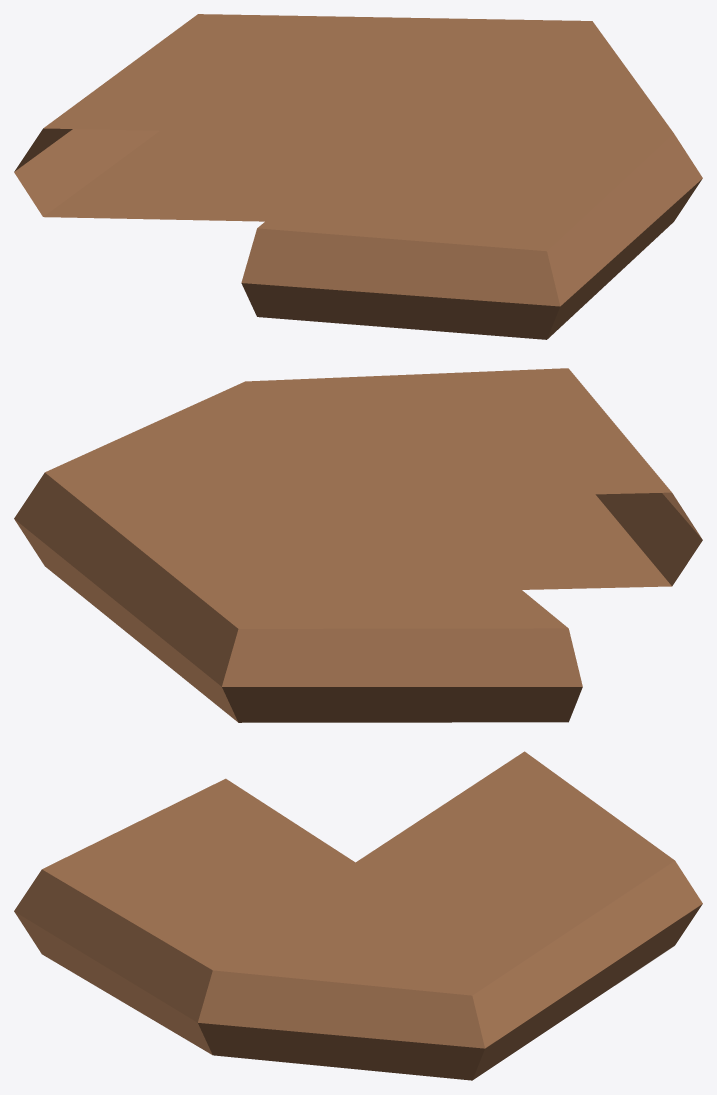
File: TreeMushroom2.fbx
3 views of the same model, one above another, from view 1: azimuth 30°, elevation 25°; view 2: azimuth 150°, elevation 25°; view 3: azimuth 270°, elevation 25° (orthographic). The views are drawn at different scales.
Parts seen in each view (by area): view 1: Big_Tree_Mushroom; view 2: Big_Tree_Mushroom; view 3: Big_Tree_Mushroom.
Part boxes in pixels (left/top/right/bottom): Big_Tree_Mushroom: left=14, top=14, right=702, bottom=339; Big_Tree_Mushroom: left=14, top=368, right=702, bottom=722; Big_Tree_Mushroom: left=14, top=751, right=702, bottom=1080.
Size of the model in its own units: 1.77 by 0.2652 by 1.95.
